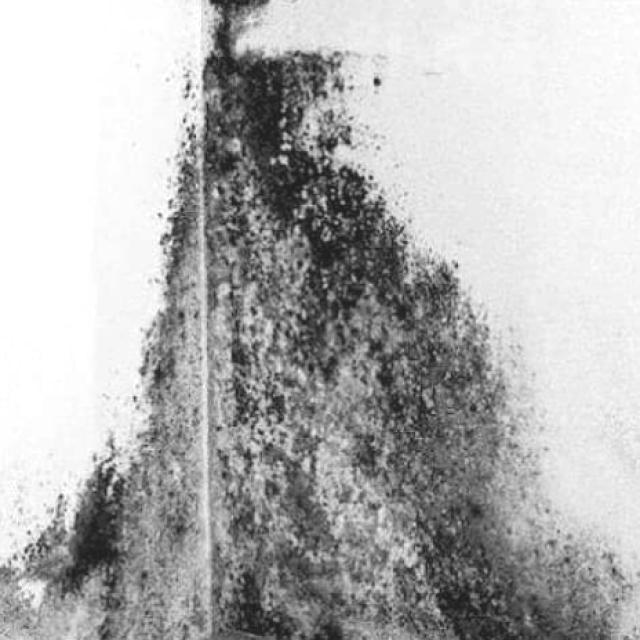stain marks: (140, 0, 392, 639), (394, 180, 639, 636), (0, 428, 141, 639)
